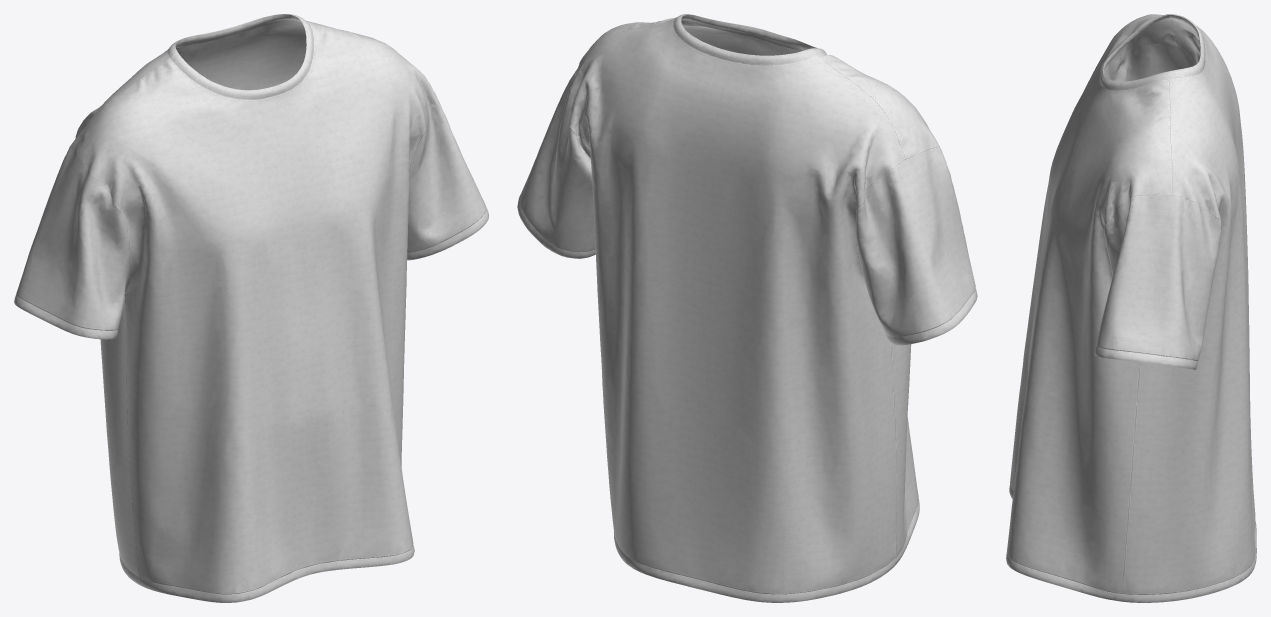
File: oversized-tee.glb
3 renders of one model, left to right at view 1: azimuth 30°, elevation 25°; view 2: azimuth 150°, elevation 25°; view 3: azimuth 270°, elevation 25°, orthographic. The views are drawn at different scales.
Parts seen in each view (by area): view 1: Object_6; view 2: Object_6; view 3: Object_6.
Part boxes in pixels (<box>): Object_6: <box>14,14,488,602</box>; Object_6: <box>517,14,977,602</box>; Object_6: <box>1006,14,1256,602</box>.
Bounding box in the file's own units: 0.6369 × 0.7108 × 0.3212.
Materials: 1 (1 with a texture image).
